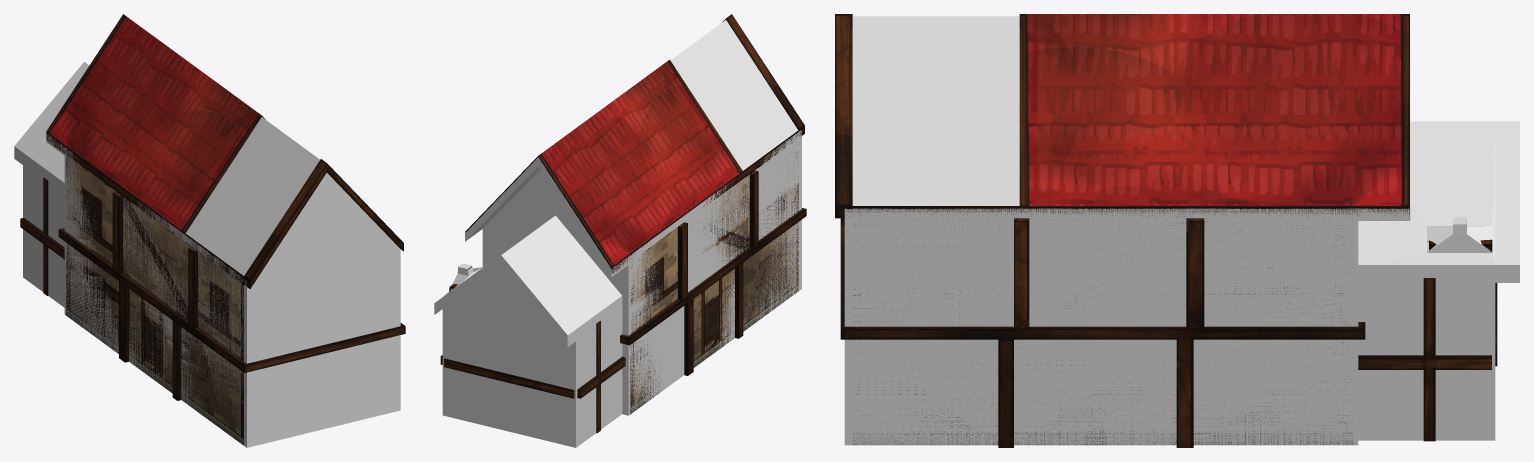
File: House_2_Col.fbx
The picture shows the model from 3 angles, left to right: view 1: azimuth 30°, elevation 25°; view 2: azimuth 150°, elevation 25°; view 3: azimuth 270°, elevation 25°; orthographic projection. The views are drawn at different scales.
Visible parts, largest first — view 1: House_2_Col, House2; view 2: House_2_Col, House2; view 3: House_2_Col, House2.
Boxes of the visible parts, x1,y1,x2,y2 form: House_2_Col: (14,62,400,447); House2: (20,14,405,445); House_2_Col: (434,20,801,447); House2: (440,14,806,433); House_2_Col: (844,16,1519,445); House2: (835,14,1497,447).
Size of the model in its own units: 210 by 333 by 547.
